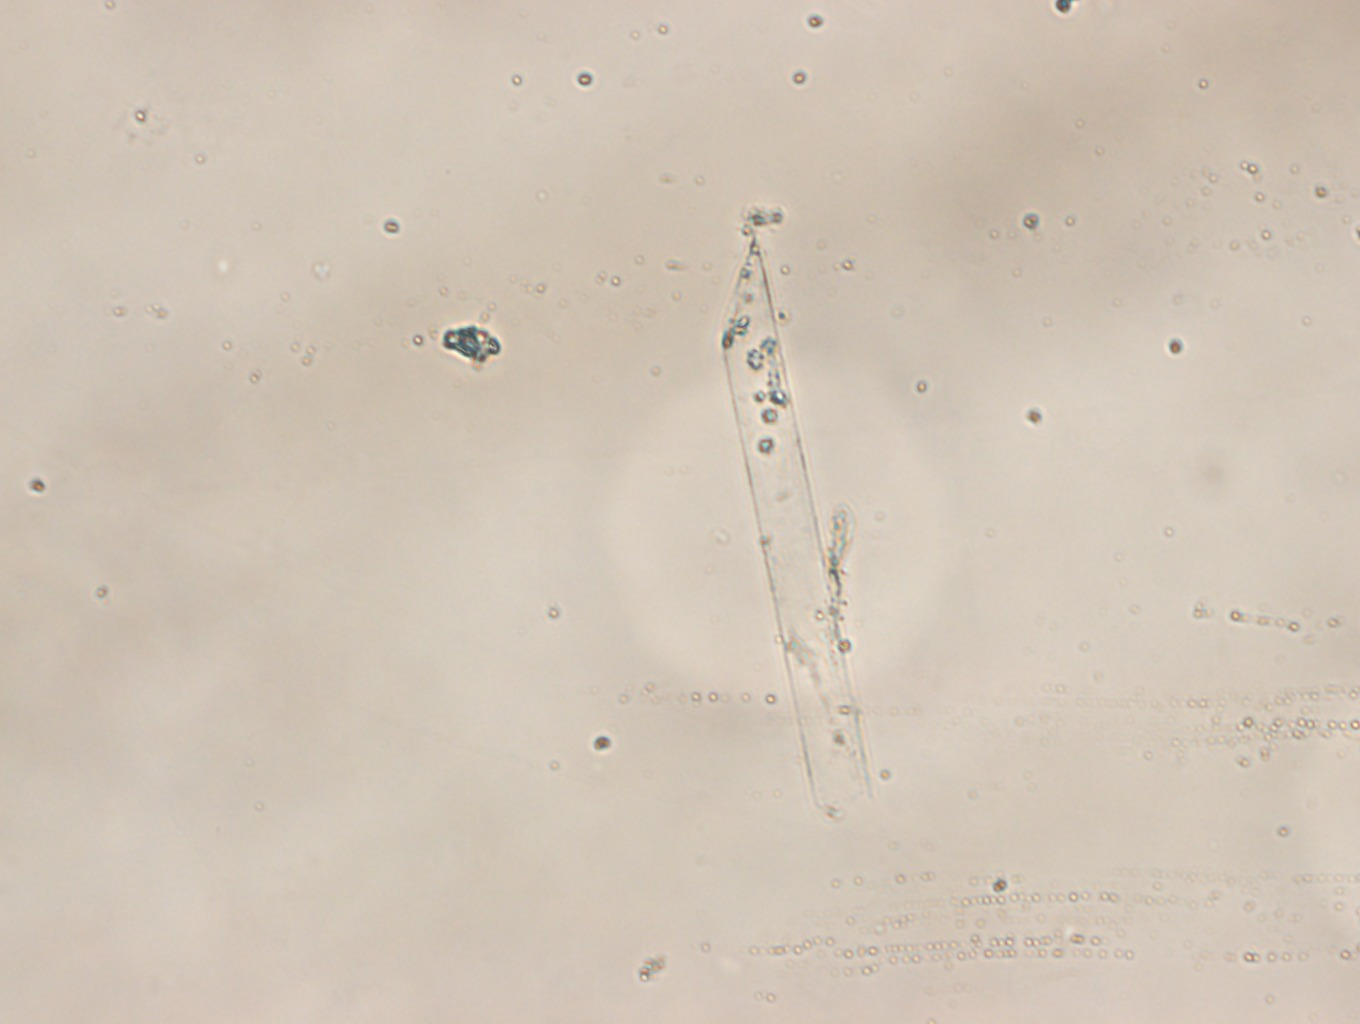rhizosolenia: (720, 234, 870, 808)
